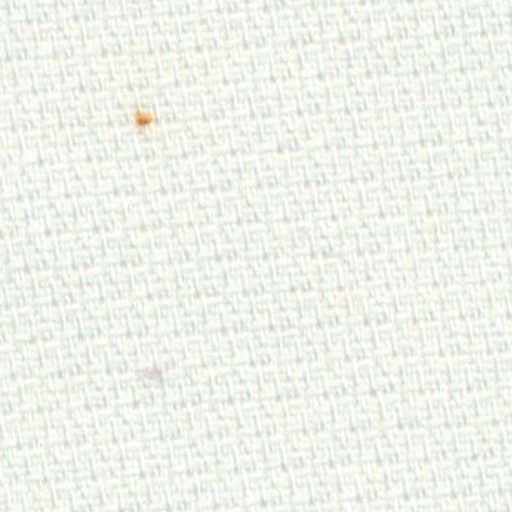WuZi: (105, 80, 176, 147), (126, 344, 176, 398)
